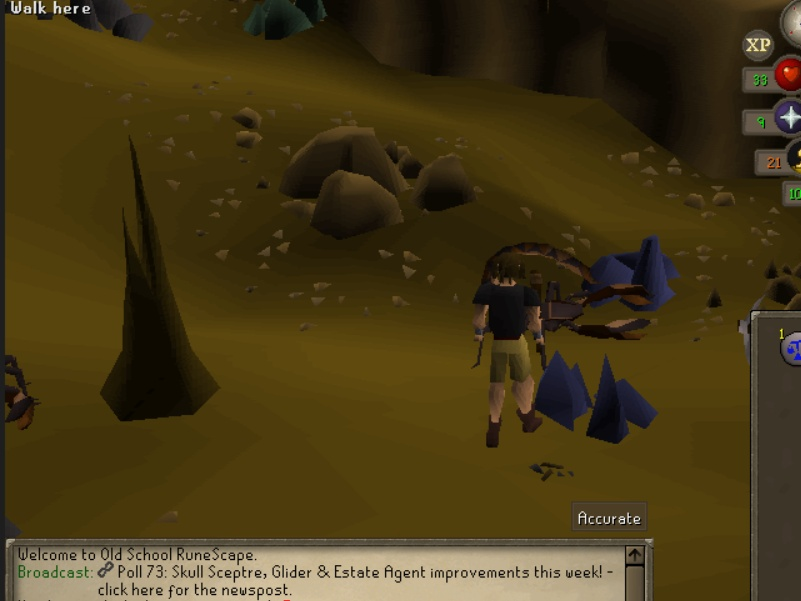adamant: (240, 1, 330, 50)
mithril: (531, 341, 664, 451), (578, 230, 689, 316)
